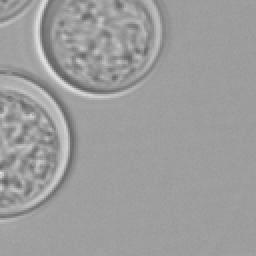picoshell: (34, 0, 164, 96), (0, 74, 68, 220)
